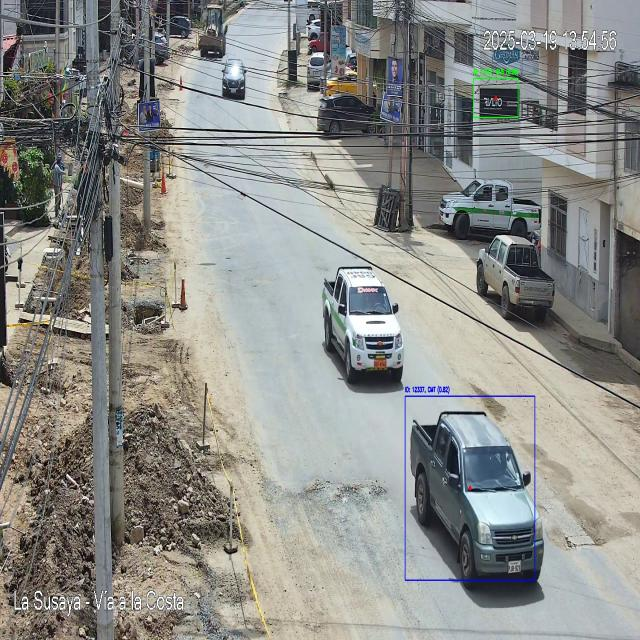CMT: (410, 413, 544, 587), (322, 268, 404, 386), (475, 234, 555, 329)
